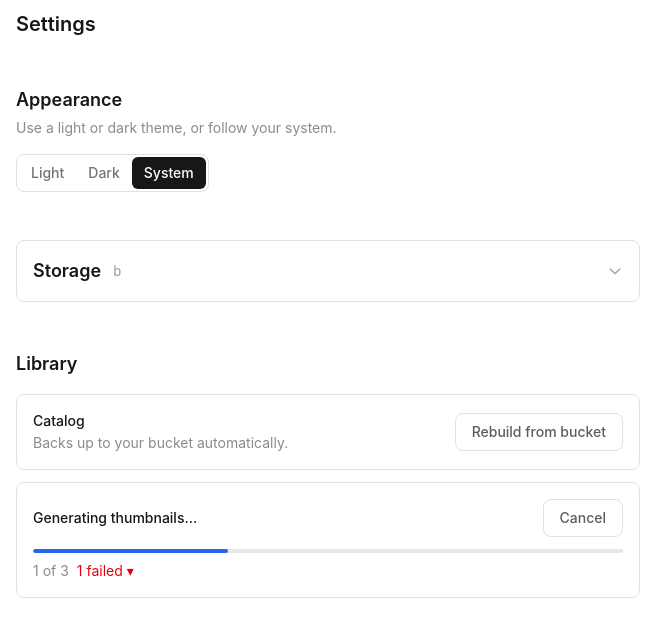
Test: Settings library refresh › tucks per-photo failures behind a toggle inside the progress card
Expected: the heading "Library" is shown, [16,353,78,374]
Expected: the text "drawing.png" is not shown
Click the button with test id "toggle-failures" at [105, 571], box [77,561,134,581]
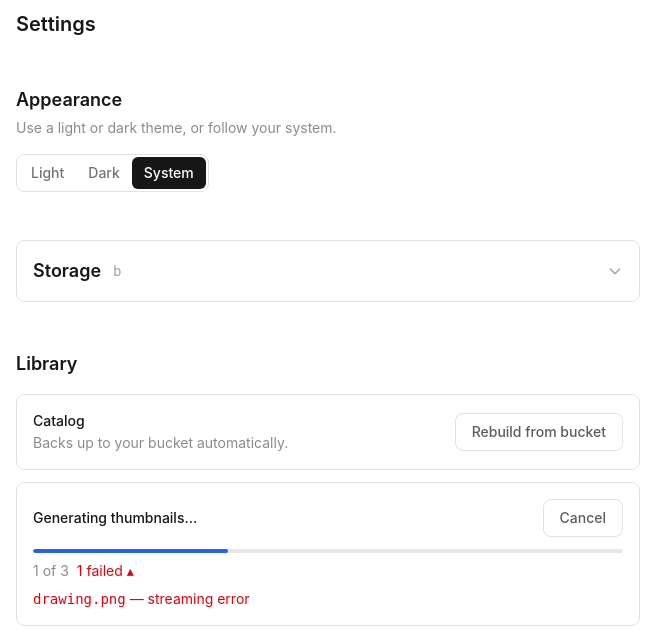
Expected: the button with test id "toggle-failures" is expanded
Expected: the text "drawing.png" is shown, [33,591,126,607]
Expected: the list item "drawing.png — streaming error" is shown, [33,590,250,607]
Click the button with test id "toggle-failures" at [105, 571], box [77,561,134,581]
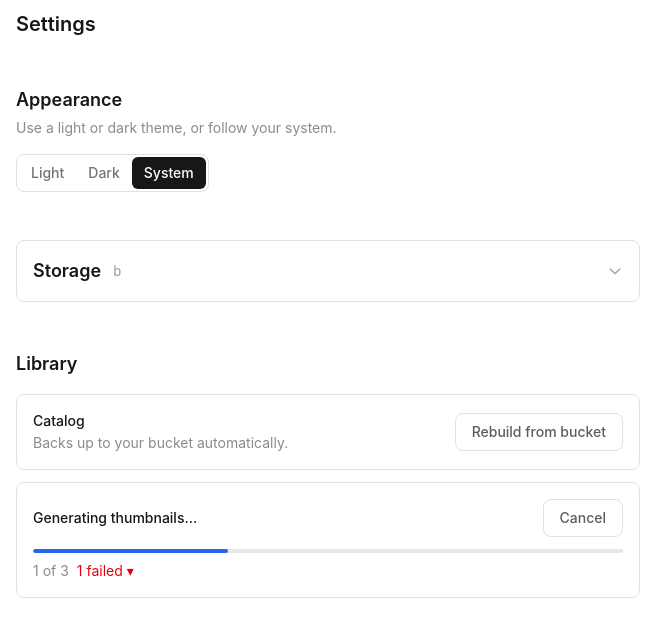
Expected: the text "drawing.png" is gone
